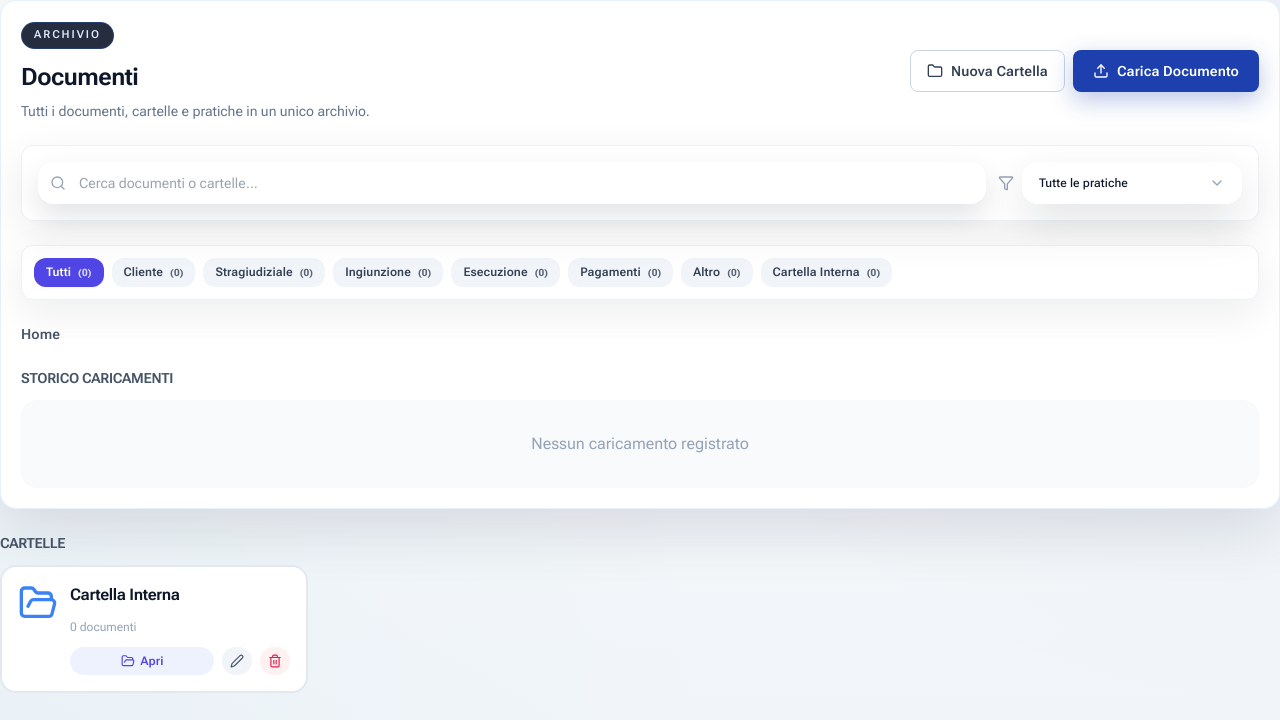
Test: DocumentiPage actions › apre una cartella e apre un documento interno
Click the button "Apri" at (142, 660), box [70,646,214,674]
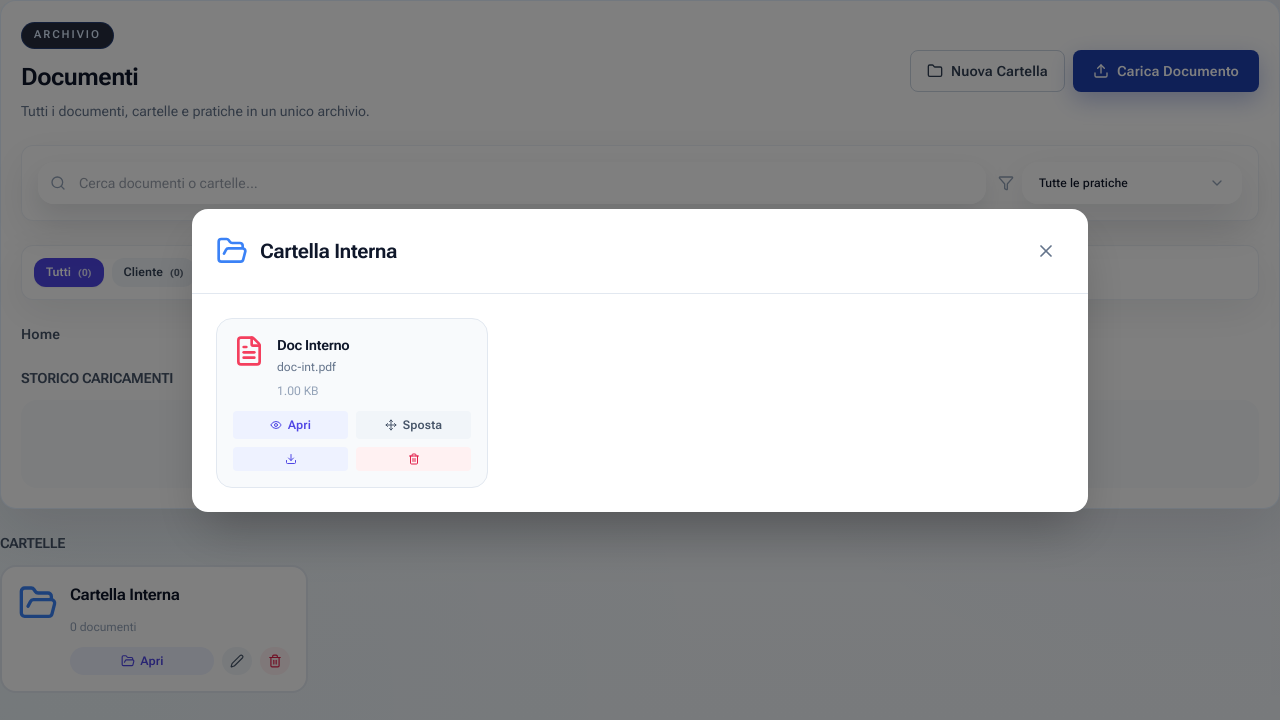
Now the heading "Cartella Interna" is shown, box [260,236,397,264]
Click the button "Apri" at (290, 424), box [233,410,348,438]
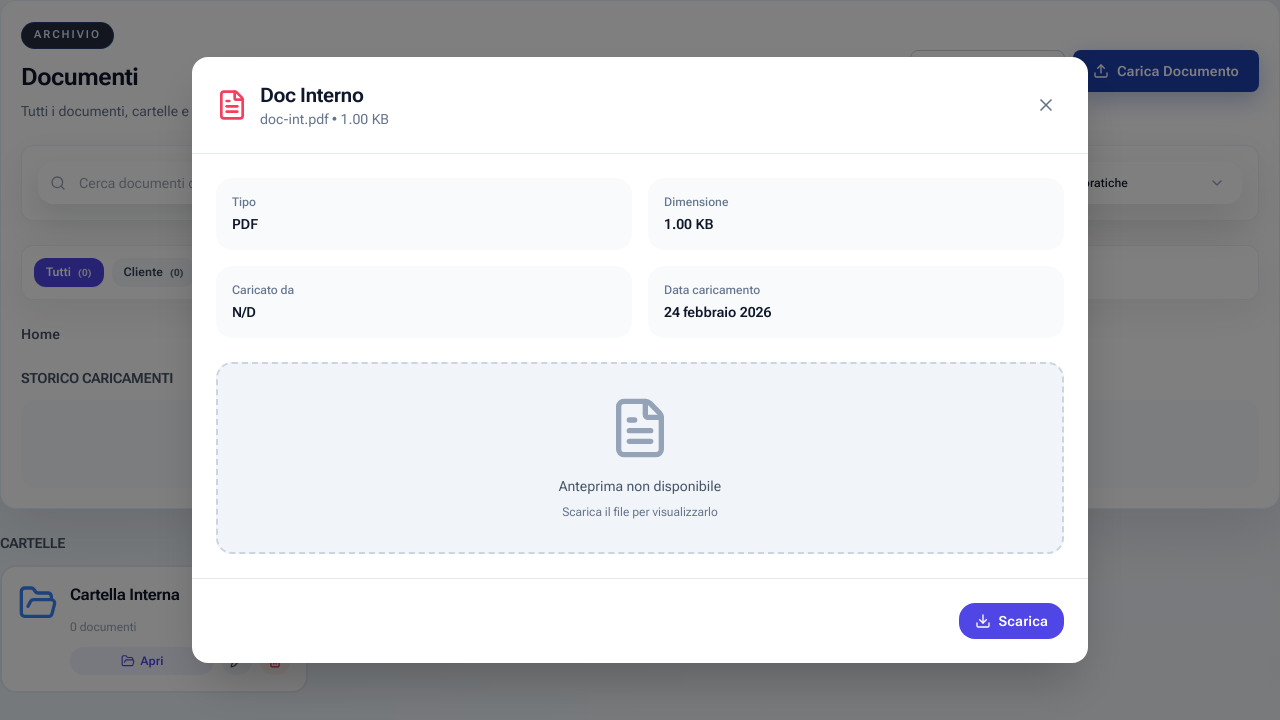
Now the text "Anteprima non disponibile" is shown, box [559,478,721,494]
